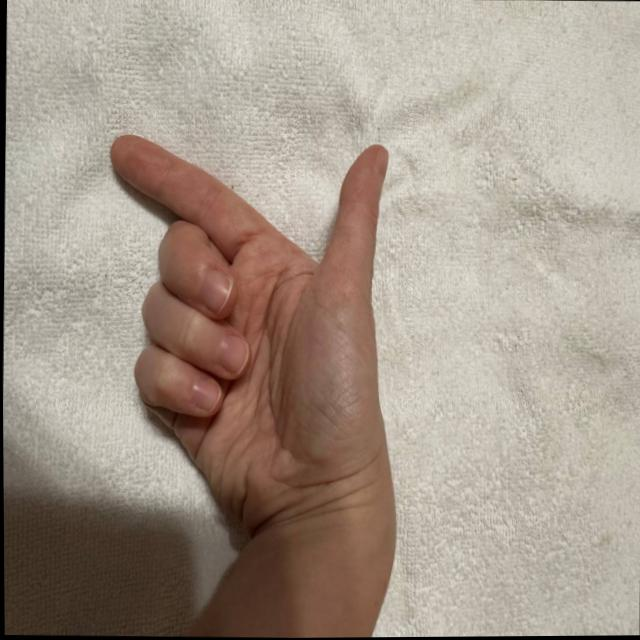g: (90, 92, 407, 498)
